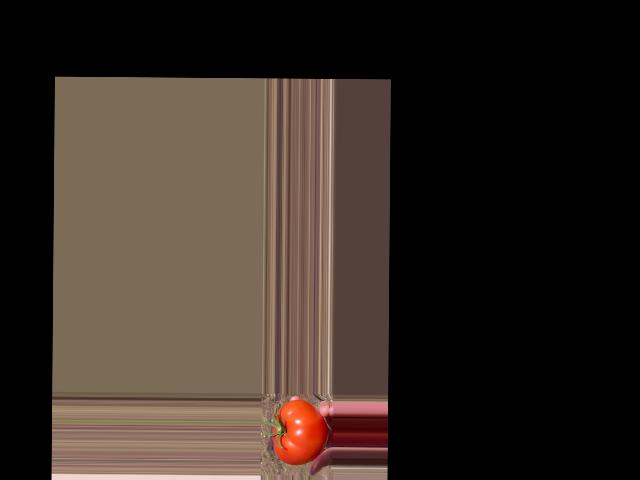tomato: (272, 399, 328, 465)
